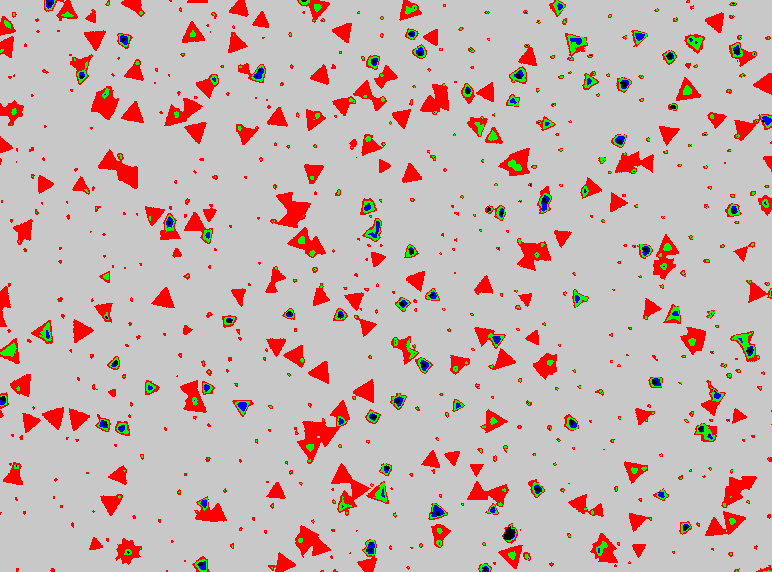flakes_n\xE3o_monos: (297, 400, 350, 464), (331, 463, 369, 516), (97, 148, 137, 190), (275, 193, 311, 229), (287, 227, 326, 258), (653, 233, 679, 279), (164, 97, 203, 126), (354, 80, 388, 112), (295, 526, 330, 556), (467, 481, 509, 506), (516, 241, 550, 271), (90, 86, 119, 121), (184, 212, 213, 246), (724, 476, 756, 506), (498, 147, 531, 176), (700, 380, 725, 416), (180, 380, 207, 413), (590, 532, 618, 563), (194, 495, 226, 522), (420, 83, 449, 112), (391, 335, 418, 366), (615, 151, 653, 173), (729, 42, 757, 68), (680, 327, 706, 355), (298, 1, 331, 23), (115, 538, 142, 564), (474, 327, 505, 349), (71, 56, 92, 87), (0, 100, 25, 126), (532, 354, 556, 379), (676, 77, 701, 101), (159, 212, 179, 240), (565, 33, 588, 57), (375, 65, 398, 89), (0, 337, 19, 365), (366, 480, 388, 504), (266, 267, 286, 293), (0, 285, 12, 328), (239, 63, 266, 82), (430, 524, 451, 548), (362, 218, 382, 242), (684, 33, 705, 54), (467, 119, 487, 137), (527, 478, 545, 498), (663, 304, 681, 324), (571, 290, 589, 309), (428, 503, 448, 520), (631, 30, 649, 48), (509, 66, 527, 84), (461, 82, 475, 105), (415, 357, 433, 374), (549, 0, 567, 17), (360, 198, 377, 216), (486, 127, 504, 143), (583, 73, 599, 90), (390, 393, 406, 410), (662, 49, 677, 66), (394, 297, 411, 312), (564, 414, 579, 431), (617, 77, 632, 93), (44, 0, 64, 12), (115, 421, 130, 436), (505, 93, 521, 107), (611, 134, 627, 148), (95, 418, 111, 432), (332, 307, 348, 321), (637, 244, 653, 258), (725, 203, 741, 217), (652, 488, 669, 501), (424, 288, 440, 301), (494, 204, 506, 221), (405, 244, 419, 258), (367, 55, 380, 70), (107, 356, 120, 371), (543, 116, 556, 130), (679, 521, 692, 535), (222, 316, 237, 328), (648, 376, 663, 388), (452, 399, 464, 412), (282, 308, 295, 320), (0, 393, 9, 409), (485, 503, 498, 514), (99, 271, 109, 284), (598, 157, 607, 165)
mono_flakes: (498, 545, 522, 570), (182, 19, 206, 44), (150, 286, 175, 309), (486, 409, 509, 433), (120, 100, 144, 123), (73, 319, 95, 344), (493, 348, 518, 370), (723, 512, 746, 535), (41, 407, 63, 431), (353, 378, 374, 403), (308, 359, 329, 384), (1, 463, 24, 485), (625, 462, 648, 484), (31, 320, 51, 345), (12, 219, 33, 242), (10, 374, 31, 397), (282, 345, 303, 368), (306, 109, 327, 132), (228, 31, 249, 54), (122, 60, 145, 81), (83, 31, 106, 52), (196, 76, 217, 98), (101, 496, 123, 517), (185, 122, 206, 144), (401, 0, 423, 21), (735, 120, 757, 141), (69, 410, 90, 431), (331, 22, 351, 44), (753, 72, 772, 95), (276, 552, 297, 572), (145, 207, 165, 228), (706, 516, 727, 536), (267, 107, 288, 127), (362, 135, 382, 156), (406, 270, 425, 292), (56, 0, 78, 19), (450, 355, 470, 375), (266, 338, 286, 358), (310, 65, 330, 85), (332, 97, 352, 117), (749, 282, 768, 303), (344, 293, 365, 312), (584, 177, 603, 198), (568, 494, 586, 516), (108, 465, 127, 485), (421, 449, 441, 468), (238, 127, 258, 146), (403, 163, 423, 182), (392, 109, 411, 129), (517, 47, 537, 66), (660, 127, 680, 146), (476, 82, 494, 103), (705, 13, 723, 34), (610, 192, 628, 213), (94, 303, 113, 322), (23, 414, 42, 433), (358, 319, 377, 338), (232, 400, 252, 418), (629, 513, 647, 533), (474, 275, 494, 293), (0, 15, 17, 36), (635, 408, 654, 426), (305, 165, 323, 184), (313, 286, 331, 305), (266, 481, 286, 498), (645, 299, 662, 319), (120, 0, 141, 16), (38, 175, 55, 194), (0, 35, 13, 59), (252, 10, 269, 28), (229, 0, 248, 16), (357, 558, 378, 572), (444, 450, 461, 467), (72, 176, 90, 192), (709, 113, 727, 129), (422, 29, 438, 46), (555, 232, 572, 248), (145, 380, 161, 396), (231, 289, 247, 305), (733, 408, 749, 424), (371, 251, 387, 267), (587, 503, 603, 517), (0, 136, 13, 153), (632, 544, 646, 559), (734, 246, 748, 261), (525, 329, 538, 345), (203, 209, 217, 223), (470, 464, 484, 477), (519, 293, 532, 307), (202, 381, 215, 394), (89, 537, 103, 549), (380, 159, 392, 173), (86, 11, 96, 23), (183, 324, 193, 335), (172, 247, 183, 257), (107, 388, 116, 397), (187, 0, 208, 3)
